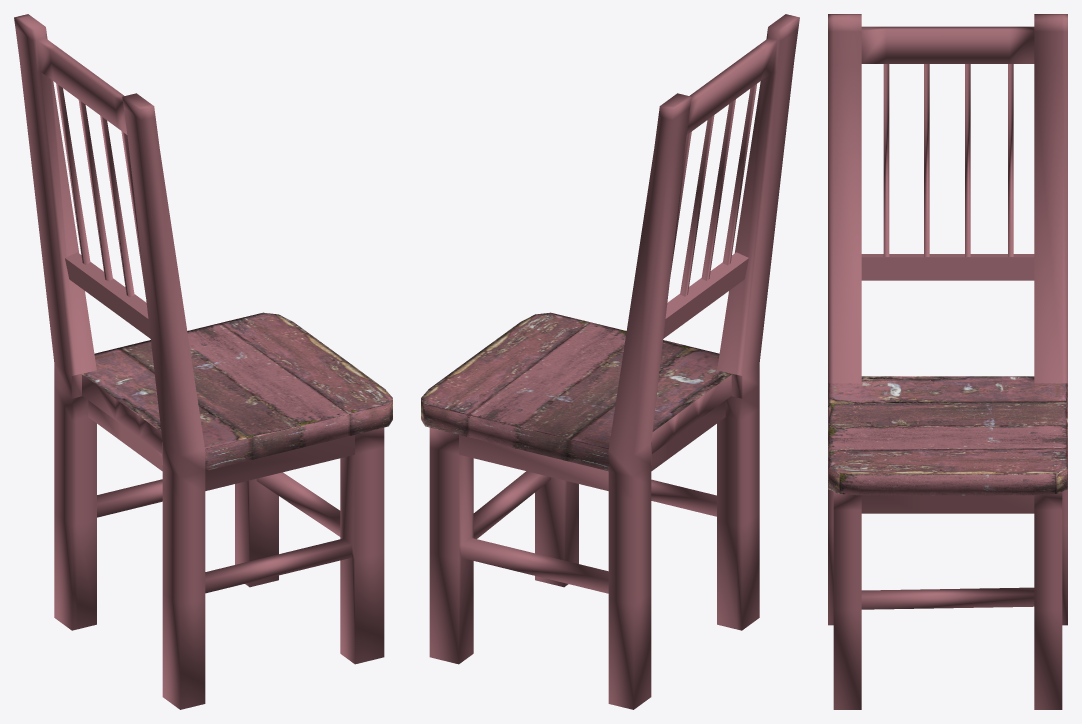
File: silla.obj
3 renders of one model, left to right at view 1: azimuth 30°, elevation 25°; view 2: azimuth 150°, elevation 25°; view 3: azimuth 270°, elevation 25°, orthographic. The views are drawn at different scales.
Parts seen in each view (by area): view 1: silla:pasted__polySurface28; view 2: silla:pasted__polySurface28; view 3: silla:pasted__polySurface28.
Boxes of the visible parts, box(x1,y1,x2,y2) form: silla:pasted__polySurface28: box(14, 14, 392, 709); silla:pasted__polySurface28: box(421, 14, 799, 709); silla:pasted__polySurface28: box(828, 14, 1067, 709).
Size of the model in its own units: 3.24 by 7.2 by 2.69.
2 materials, 2 textured.
